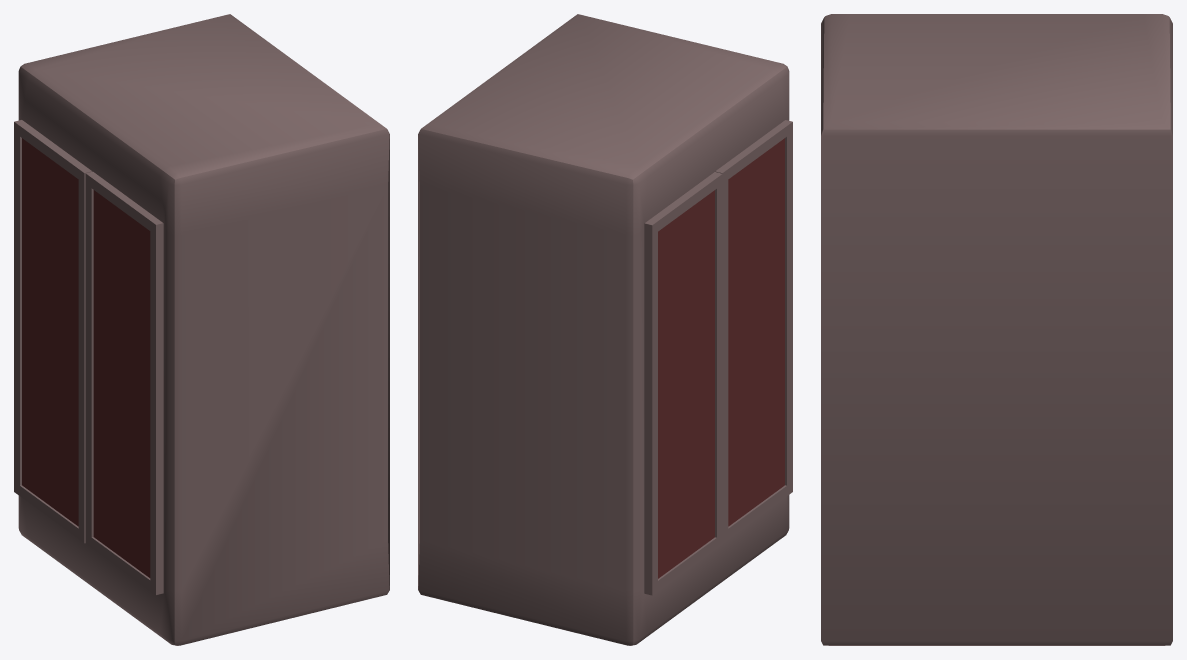
Rendered from fridge.fbx.
The picture shows the model from 3 angles, left to right: view 1: azimuth 30°, elevation 25°; view 2: azimuth 150°, elevation 25°; view 3: azimuth 270°, elevation 25°; orthographic projection. The views are drawn at different scales.
Parts seen in each view (by area): view 1: fridge, glass right, glass left, right, left; view 2: fridge, glass left, glass right, left, right; view 3: fridge.
Boxes of the visible parts, x1,y1,x2,y2 form: fridge: [18, 14, 389, 645]; glass right: [93, 190, 150, 577]; glass left: [22, 138, 78, 526]; right: [85, 171, 163, 594]; left: [14, 120, 92, 543]; fridge: [418, 14, 789, 645]; glass left: [658, 190, 714, 578]; glass right: [728, 138, 784, 526]; left: [644, 172, 722, 595]; right: [715, 120, 792, 542]; fridge: [821, 14, 1172, 645].
Bounding box in the file's own units: 22.59 × 45.27 × 27.56.
